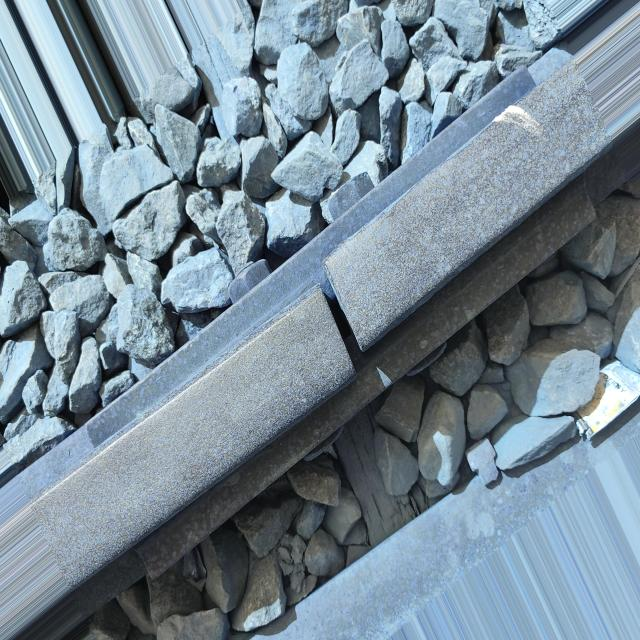crack: (302, 233, 386, 404)
